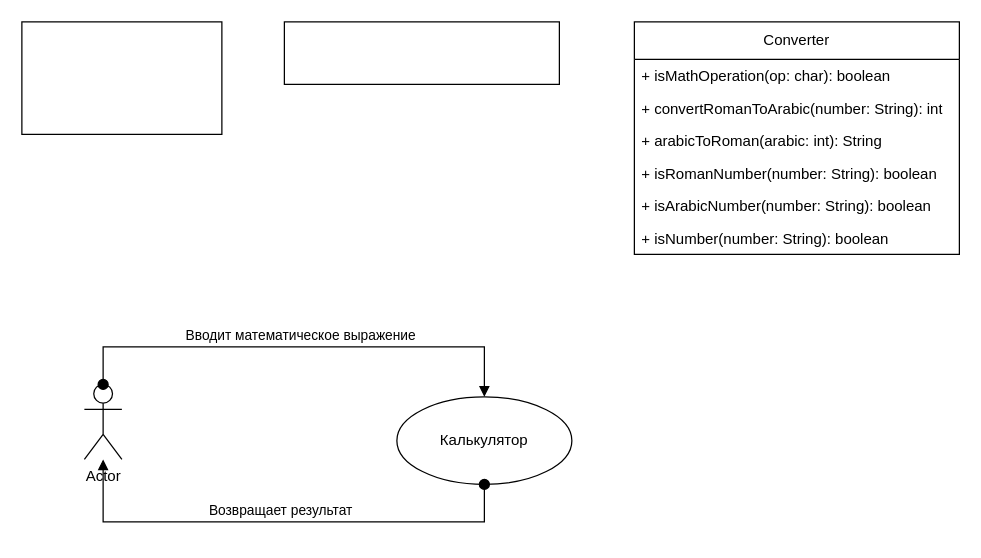
Image size: 981x558. Some labels were removed from this diagram. Each missing label, with the centre of its shape:
Calculator + calculate(a: int, b: int, op: char): int: (x=421, y=52)
CalculatorTestDrive + main(args: String[]): void + run(s: String): void: (x=121, y=77)
